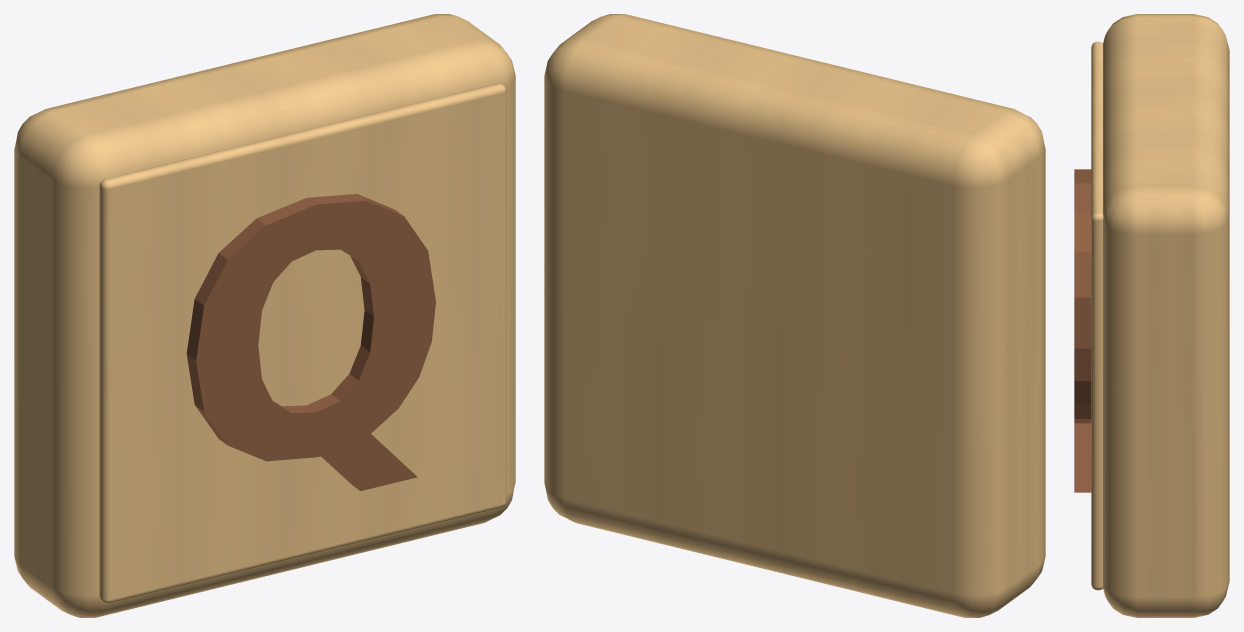
3 views of the same model, side by side, from view 1: azimuth 30°, elevation 25°; view 2: azimuth 150°, elevation 25°; view 3: azimuth 270°, elevation 25° (orthographic). The views are drawn at different scales.
Visible parts, largest first — view 1: Tile_Q; view 2: Tile_Q; view 3: Tile_Q.
Part boxes in pixels (x1=…): Tile_Q: x1=14, y1=14, x2=515, y2=617; Tile_Q: x1=544, y1=14, x2=1045, y2=617; Tile_Q: x1=1074, y1=14, x2=1229, y2=617.
Size of the model in its own units: 0.21 by 0.21 by 0.069.
2 materials, 1 textured.
